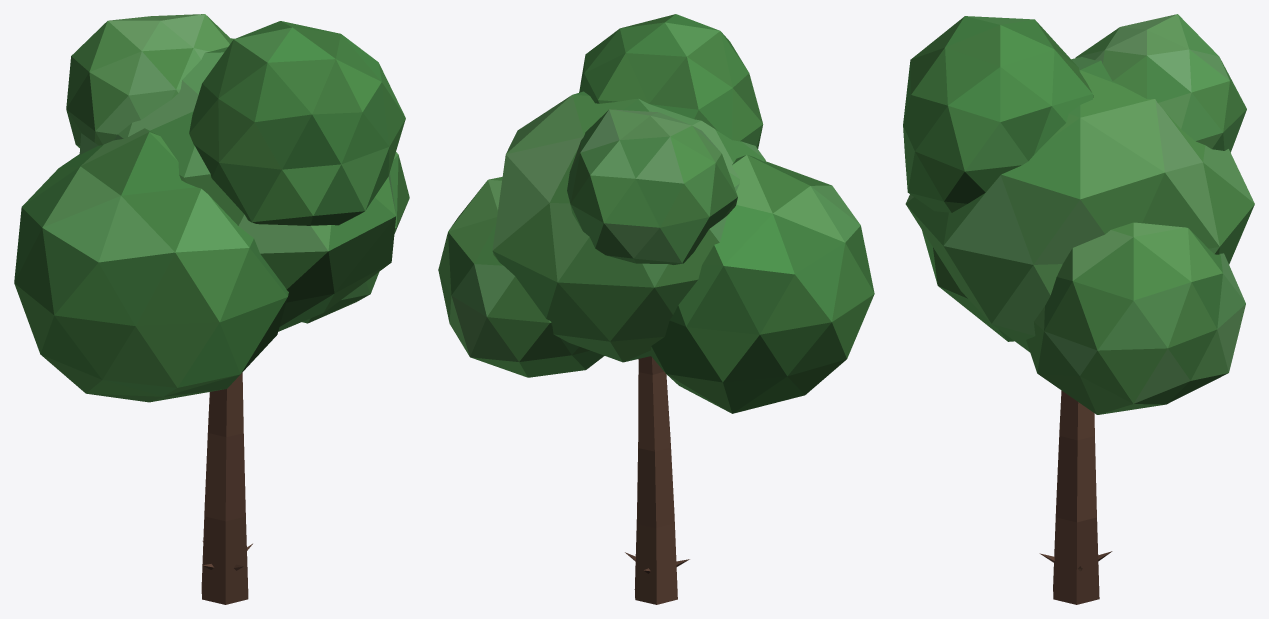
The model's file is Tree_Round_B.fbx.
3 views of the same model, side by side, from view 1: azimuth 30°, elevation 25°; view 2: azimuth 150°, elevation 25°; view 3: azimuth 270°, elevation 25° (orthographic). The views are drawn at different scales.
Visible parts, largest first — view 1: Tree_Round_B; view 2: Tree_Round_B; view 3: Tree_Round_B.
Boxes of the visible parts, left/top/right/bottom form: Tree_Round_B: left=14, top=14, right=409, bottom=604; Tree_Round_B: left=438, top=14, right=874, bottom=604; Tree_Round_B: left=903, top=14, right=1254, bottom=604.
Size of the model in its own units: 3.44 by 4.83 by 2.64.
